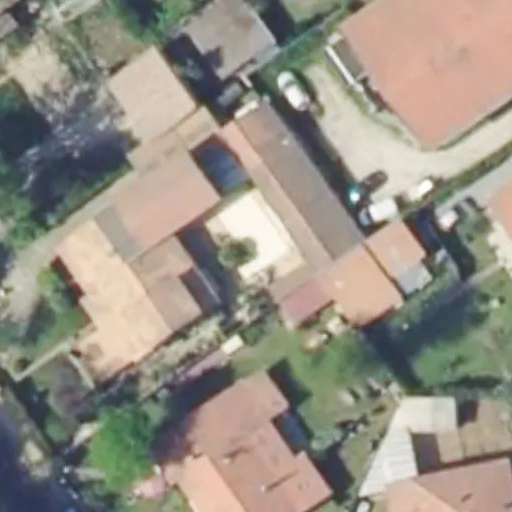pool: (220, 190, 287, 275)
